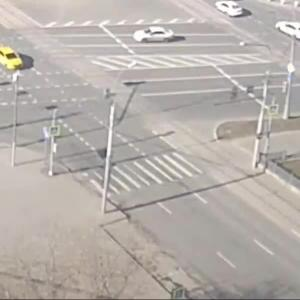car: (135, 27, 178, 46), (1, 42, 27, 72), (212, 2, 246, 19), (276, 20, 300, 42)
